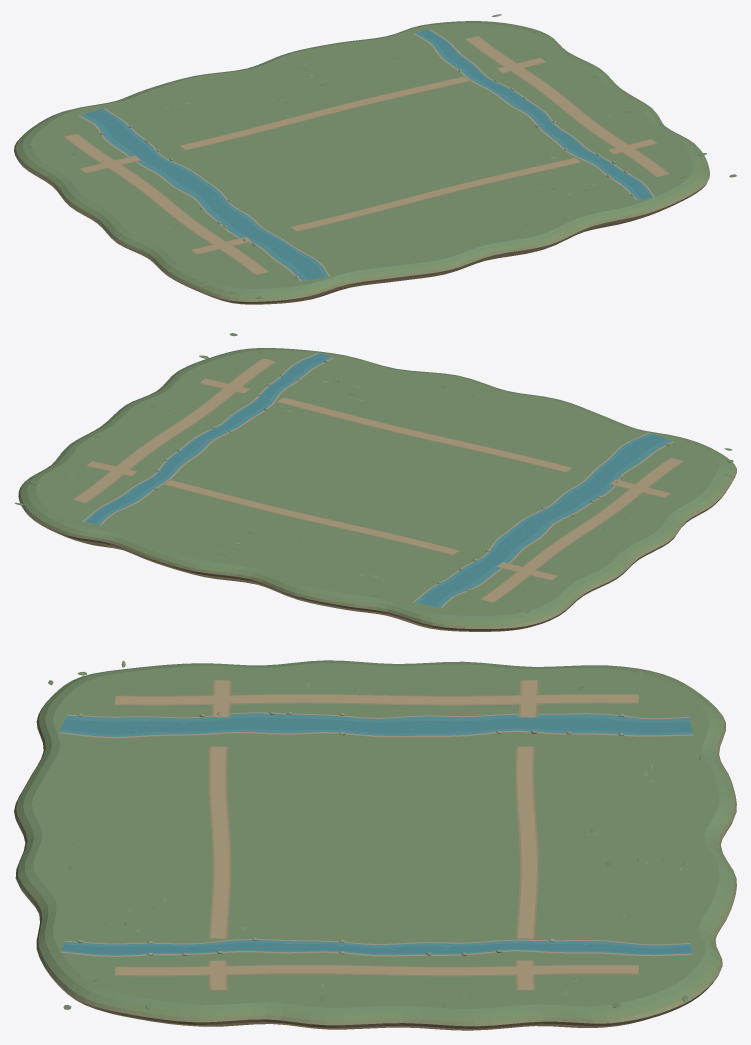
File: island.glb
3 views of the same model, one above another, from view 1: azimuth 30°, elevation 25°; view 2: azimuth 150°, elevation 25°; view 3: azimuth 270°, elevation 25° (orthographic). The views are drawn at different scales.
Parts seen in each view (by area): view 1: island; view 2: island; view 3: island.
Part boxes in pixels (<box>): island: <box>14,14,736,304</box>; island: <box>14,333,736,631</box>; island: <box>14,660,736,1030</box>.
Size of the model in its own units: 49.35 by 1.59 by 41.42.
